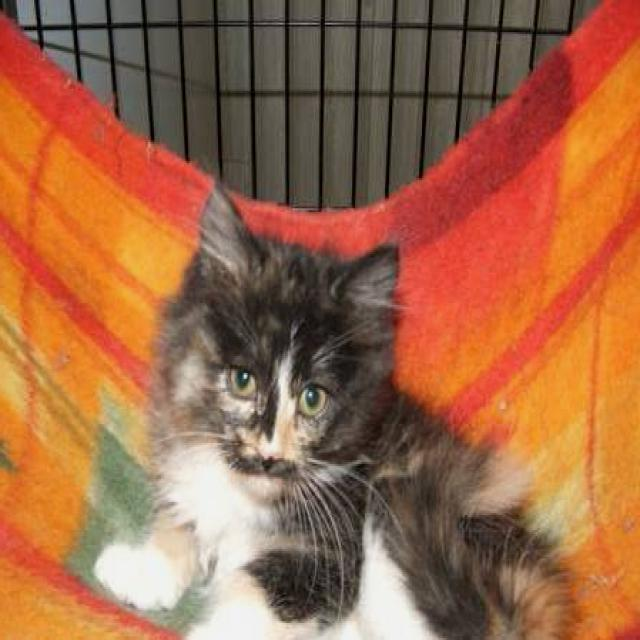Kucing: (45, 212, 601, 637)
